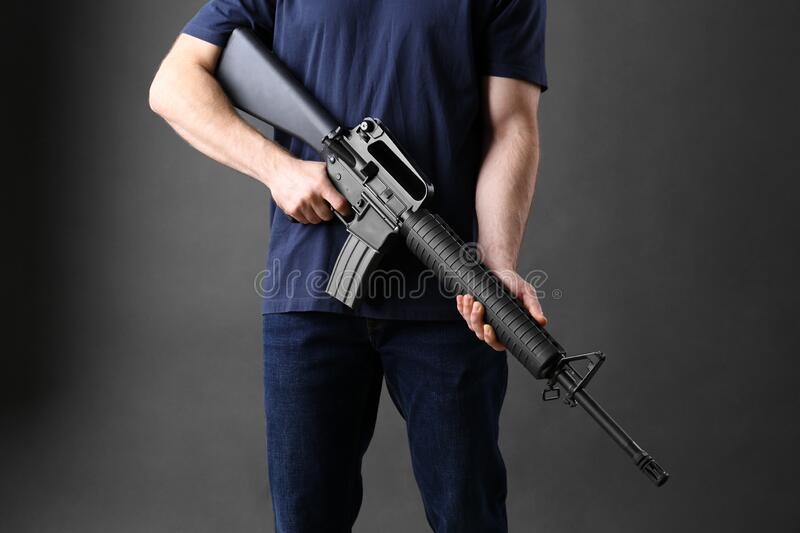rifle: (205, 30, 669, 485)
